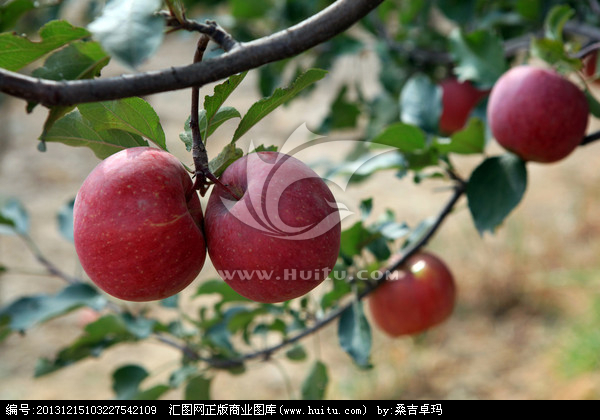apple: (205, 151, 342, 302), (71, 146, 206, 298), (489, 64, 589, 163)
obscured(1)_apple: (368, 249, 459, 333)
